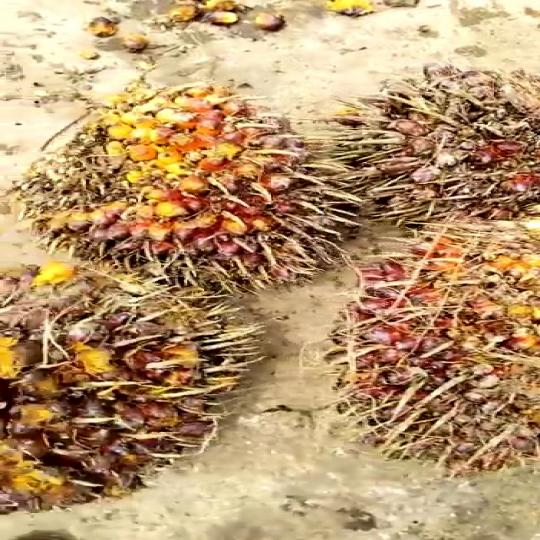masak: (0, 80, 380, 285), (0, 247, 261, 504), (337, 220, 535, 492)
